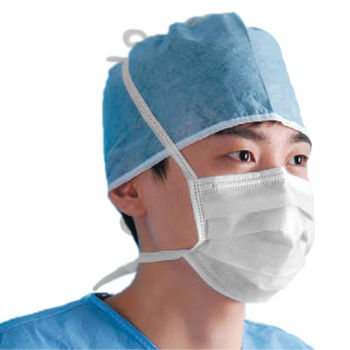with_mask_and_cap: (103, 29, 315, 303)
